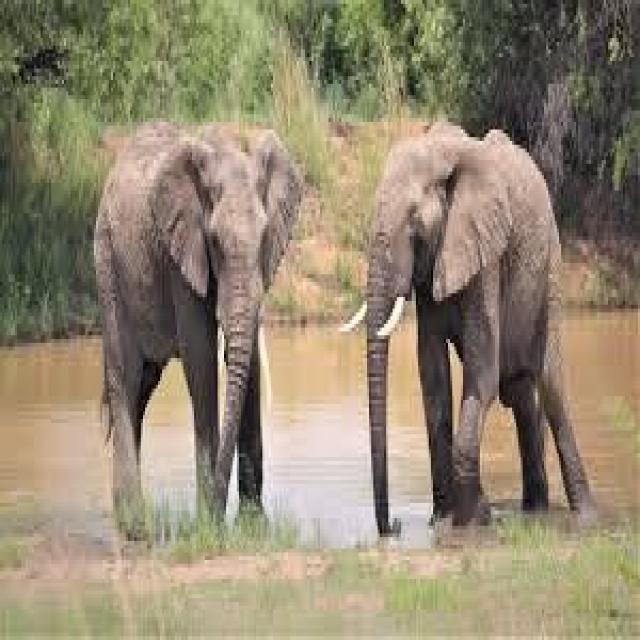Elephant: (333, 126, 597, 537), (92, 114, 301, 541)
